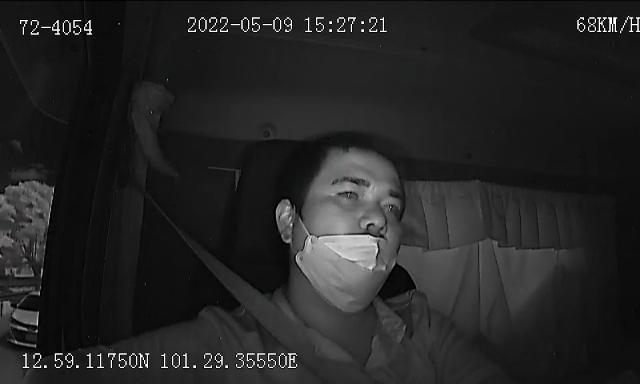SafeDriving: (330, 182, 366, 205), (377, 194, 405, 218)
Seatbelt: (188, 240, 348, 384)
